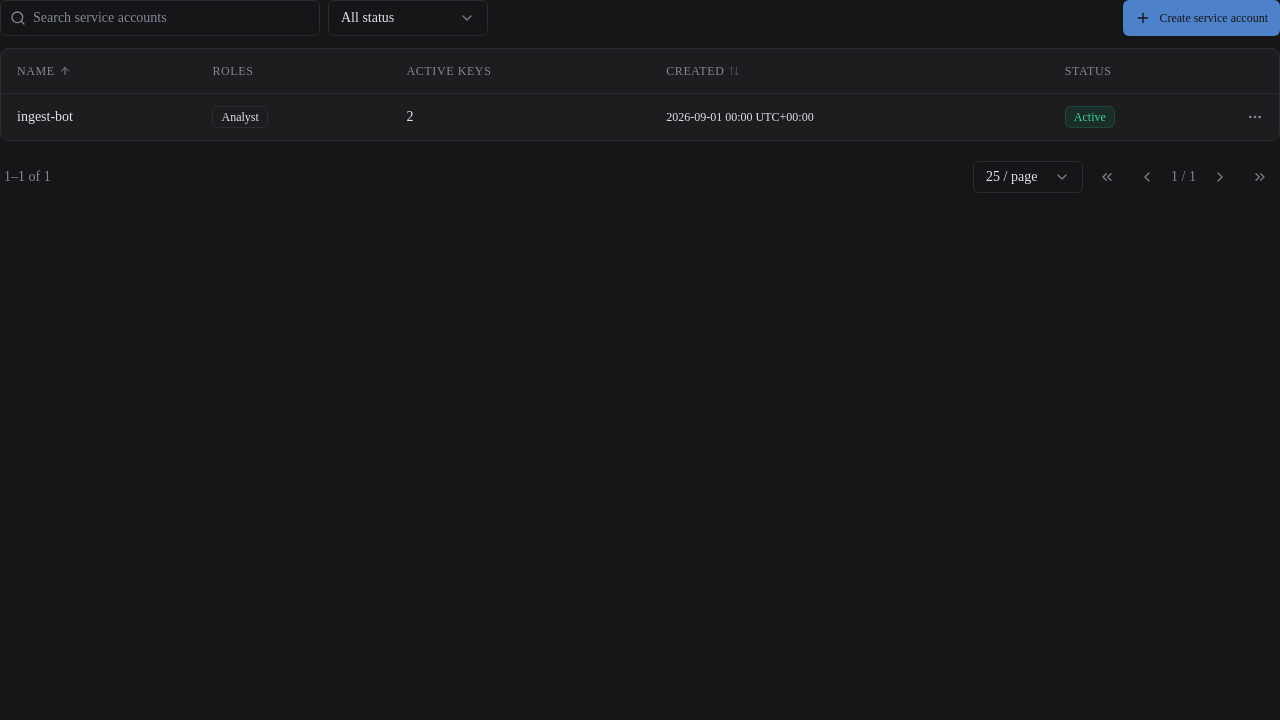
Test case: service accounts › creates an account with a role under the ceiling; roles above it cannot be picked
The image size is (1280, 720).
Expected: the text "ingest-bot" is shown, left=17, top=108, right=73, bottom=124
Click the button "Create service account": (1202, 18) left=1123, top=0, right=1279, bottom=36
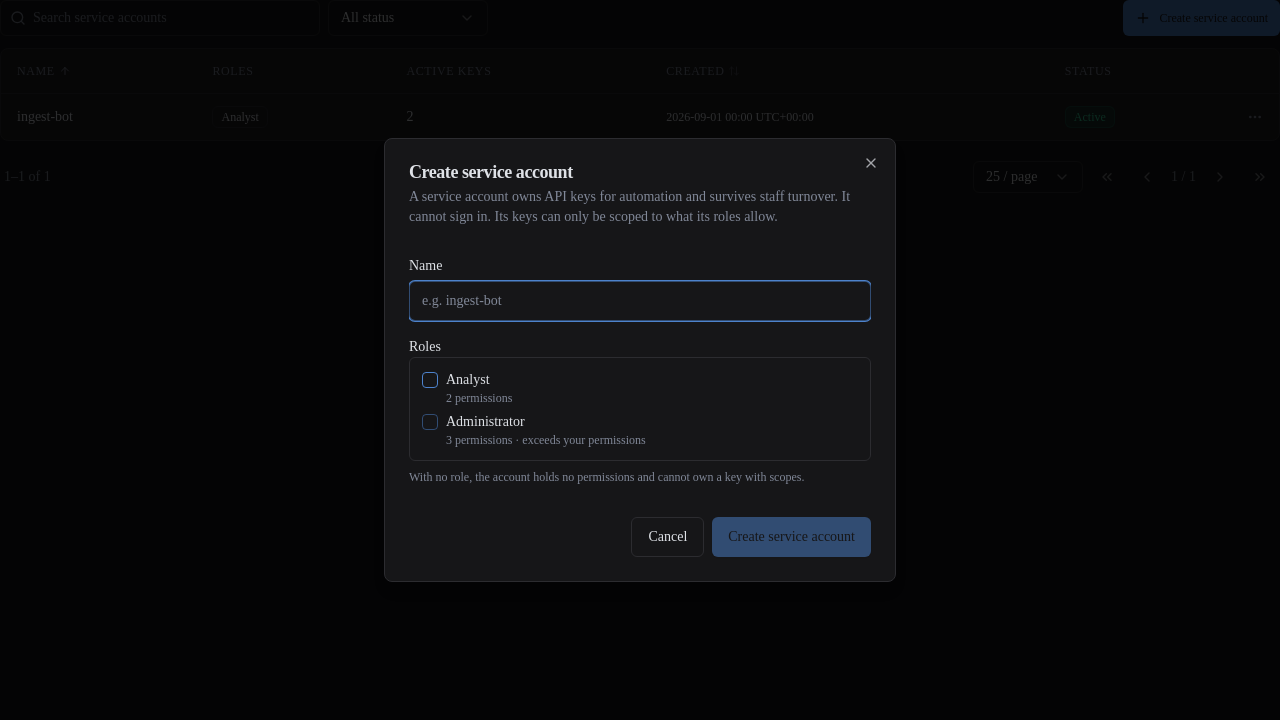
Expected: the 1st checkbox named "Analyst" is enabled, left=422, top=372, right=438, bottom=388
Expected: the checkbox named "Administrator" next to "Administrator" is disabled, left=422, top=414, right=438, bottom=430
Expected: the text "3 permissions · exceeds your permissions" is shown, left=446, top=432, right=646, bottom=448
In the field labelled "Name": (640, 301) left=409, top=281, right=871, bottom=321, type "new-bot"
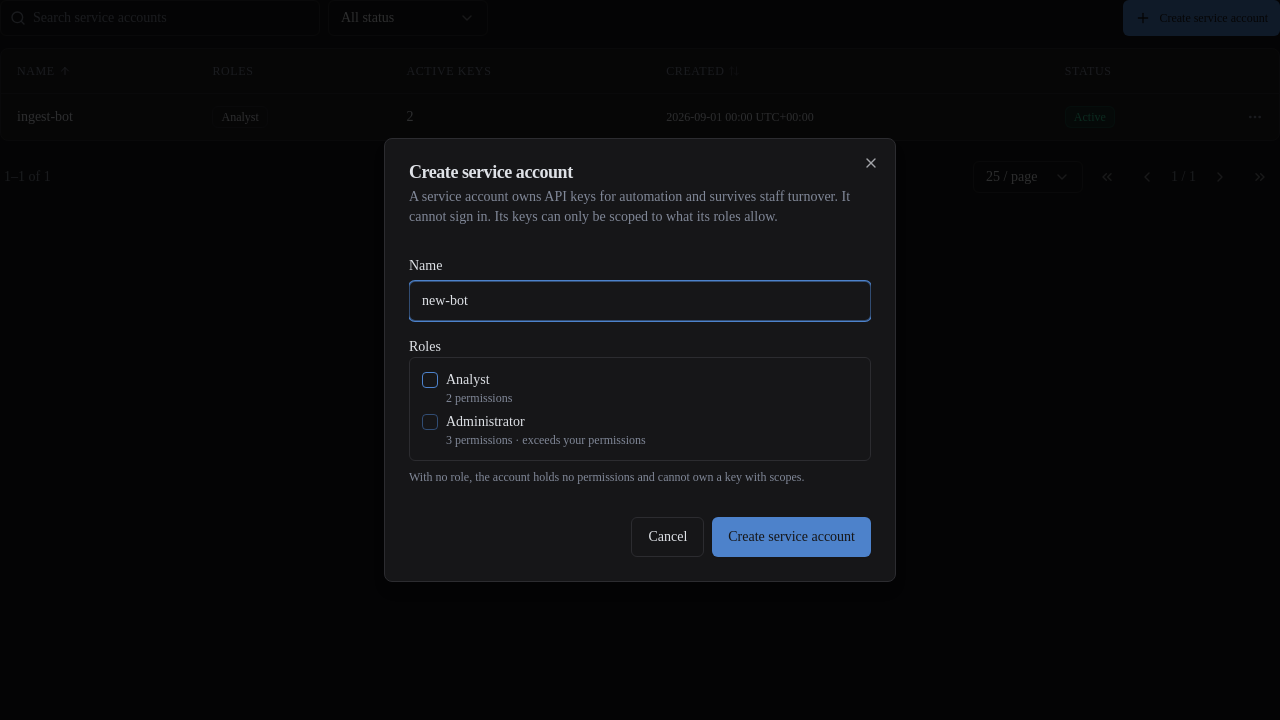
Click the 1st checkbox named "Analyst": (430, 380) left=422, top=372, right=438, bottom=388
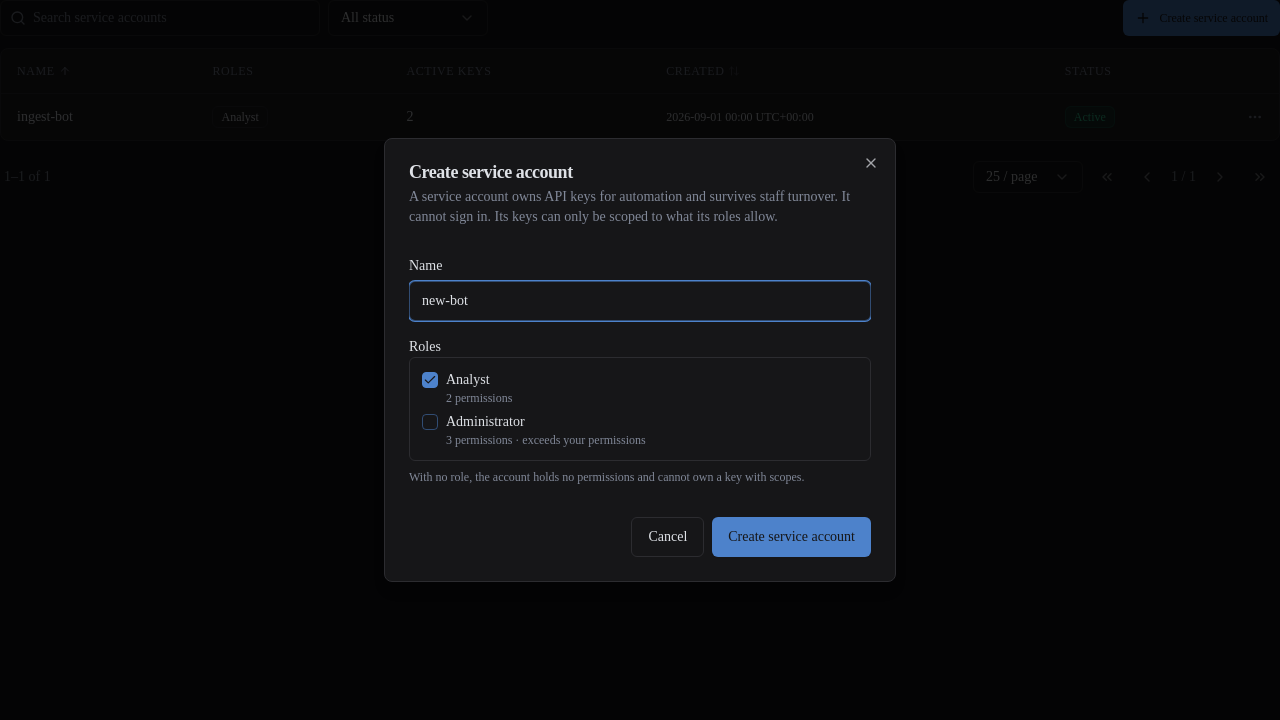
Click the button "Create service account": (792, 537) left=712, top=517, right=871, bottom=557
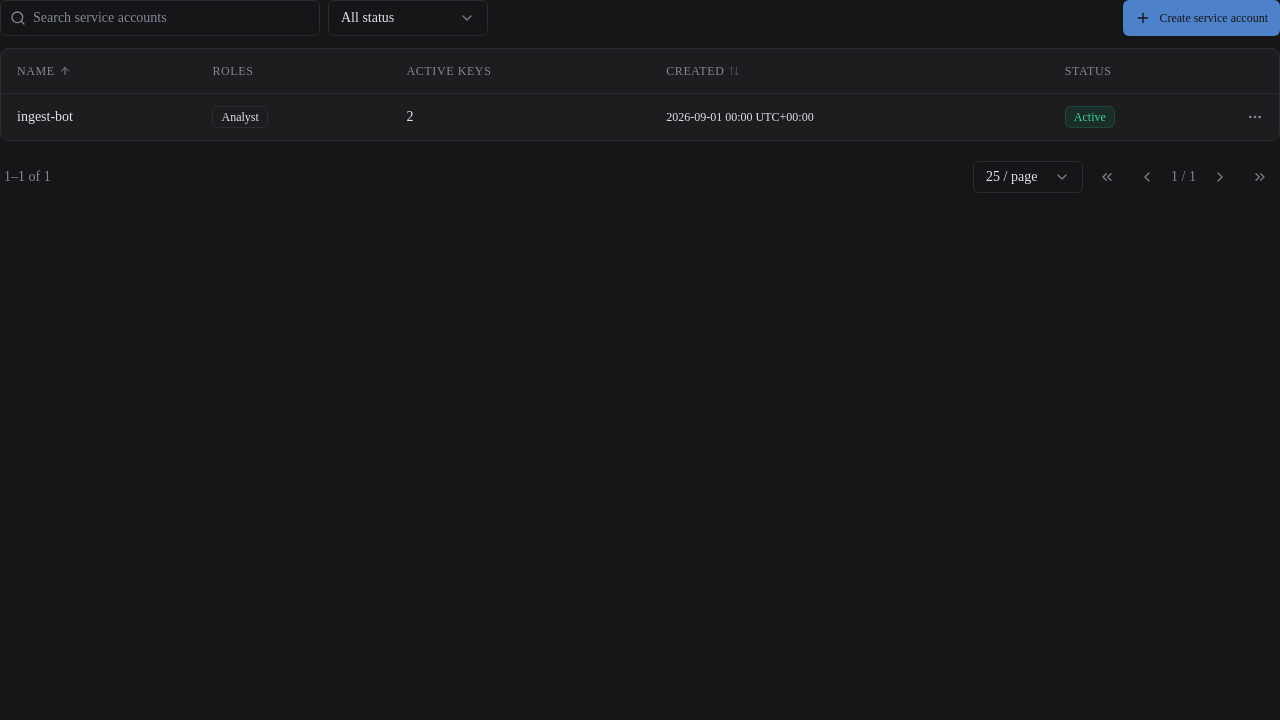
Expected: the dialog is gone
